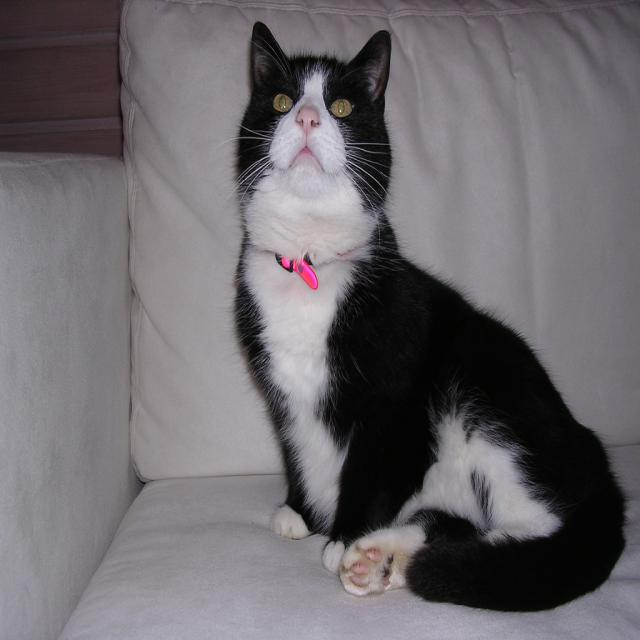left eye: (328, 95, 354, 119)
